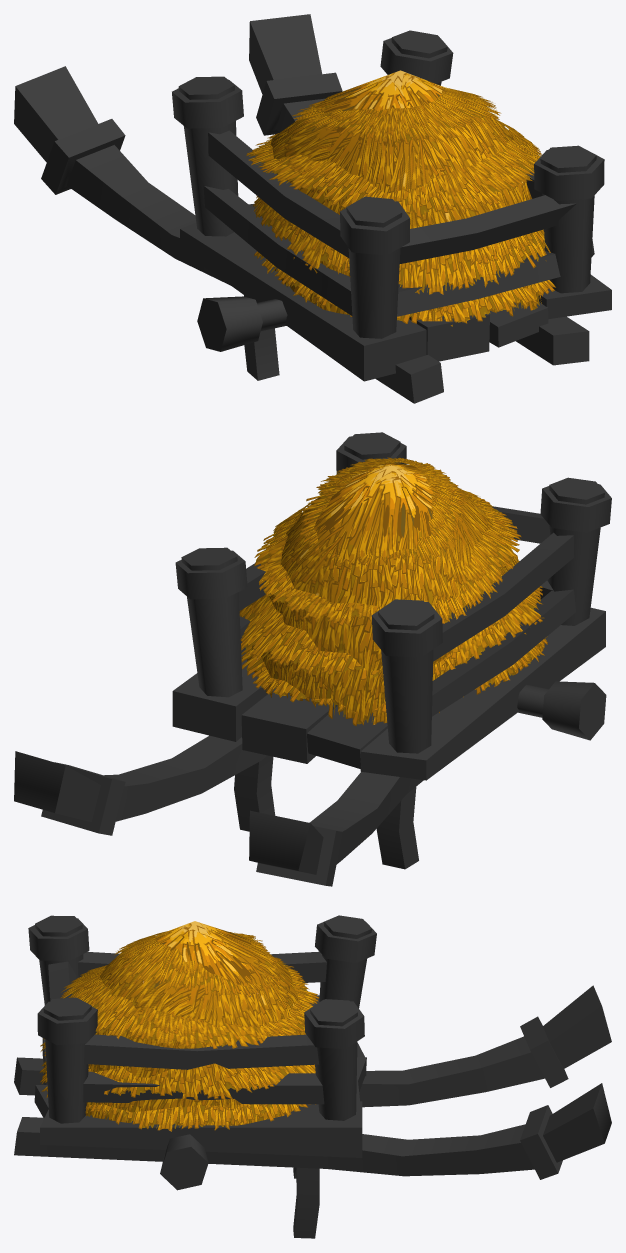
The model's file is SM_PROP_cart_03.FBX.
3 renders of one model, top to bottom at view 1: azimuth 30°, elevation 25°; view 2: azimuth 150°, elevation 25°; view 3: azimuth 270°, elevation 25°, orthographic. The views are drawn at different scales.
Visible parts, largest first — view 1: SM_PROP_cart_03; view 2: SM_PROP_cart_03; view 3: SM_PROP_cart_03.
Boxes of the visible parts, left/top/right/bottom form: SM_PROP_cart_03: left=14, top=14, right=611, bottom=403; SM_PROP_cart_03: left=14, top=432, right=611, bottom=886; SM_PROP_cart_03: left=14, top=915, right=611, bottom=1238.
Size of the model in its own units: 268 by 438 by 229.
